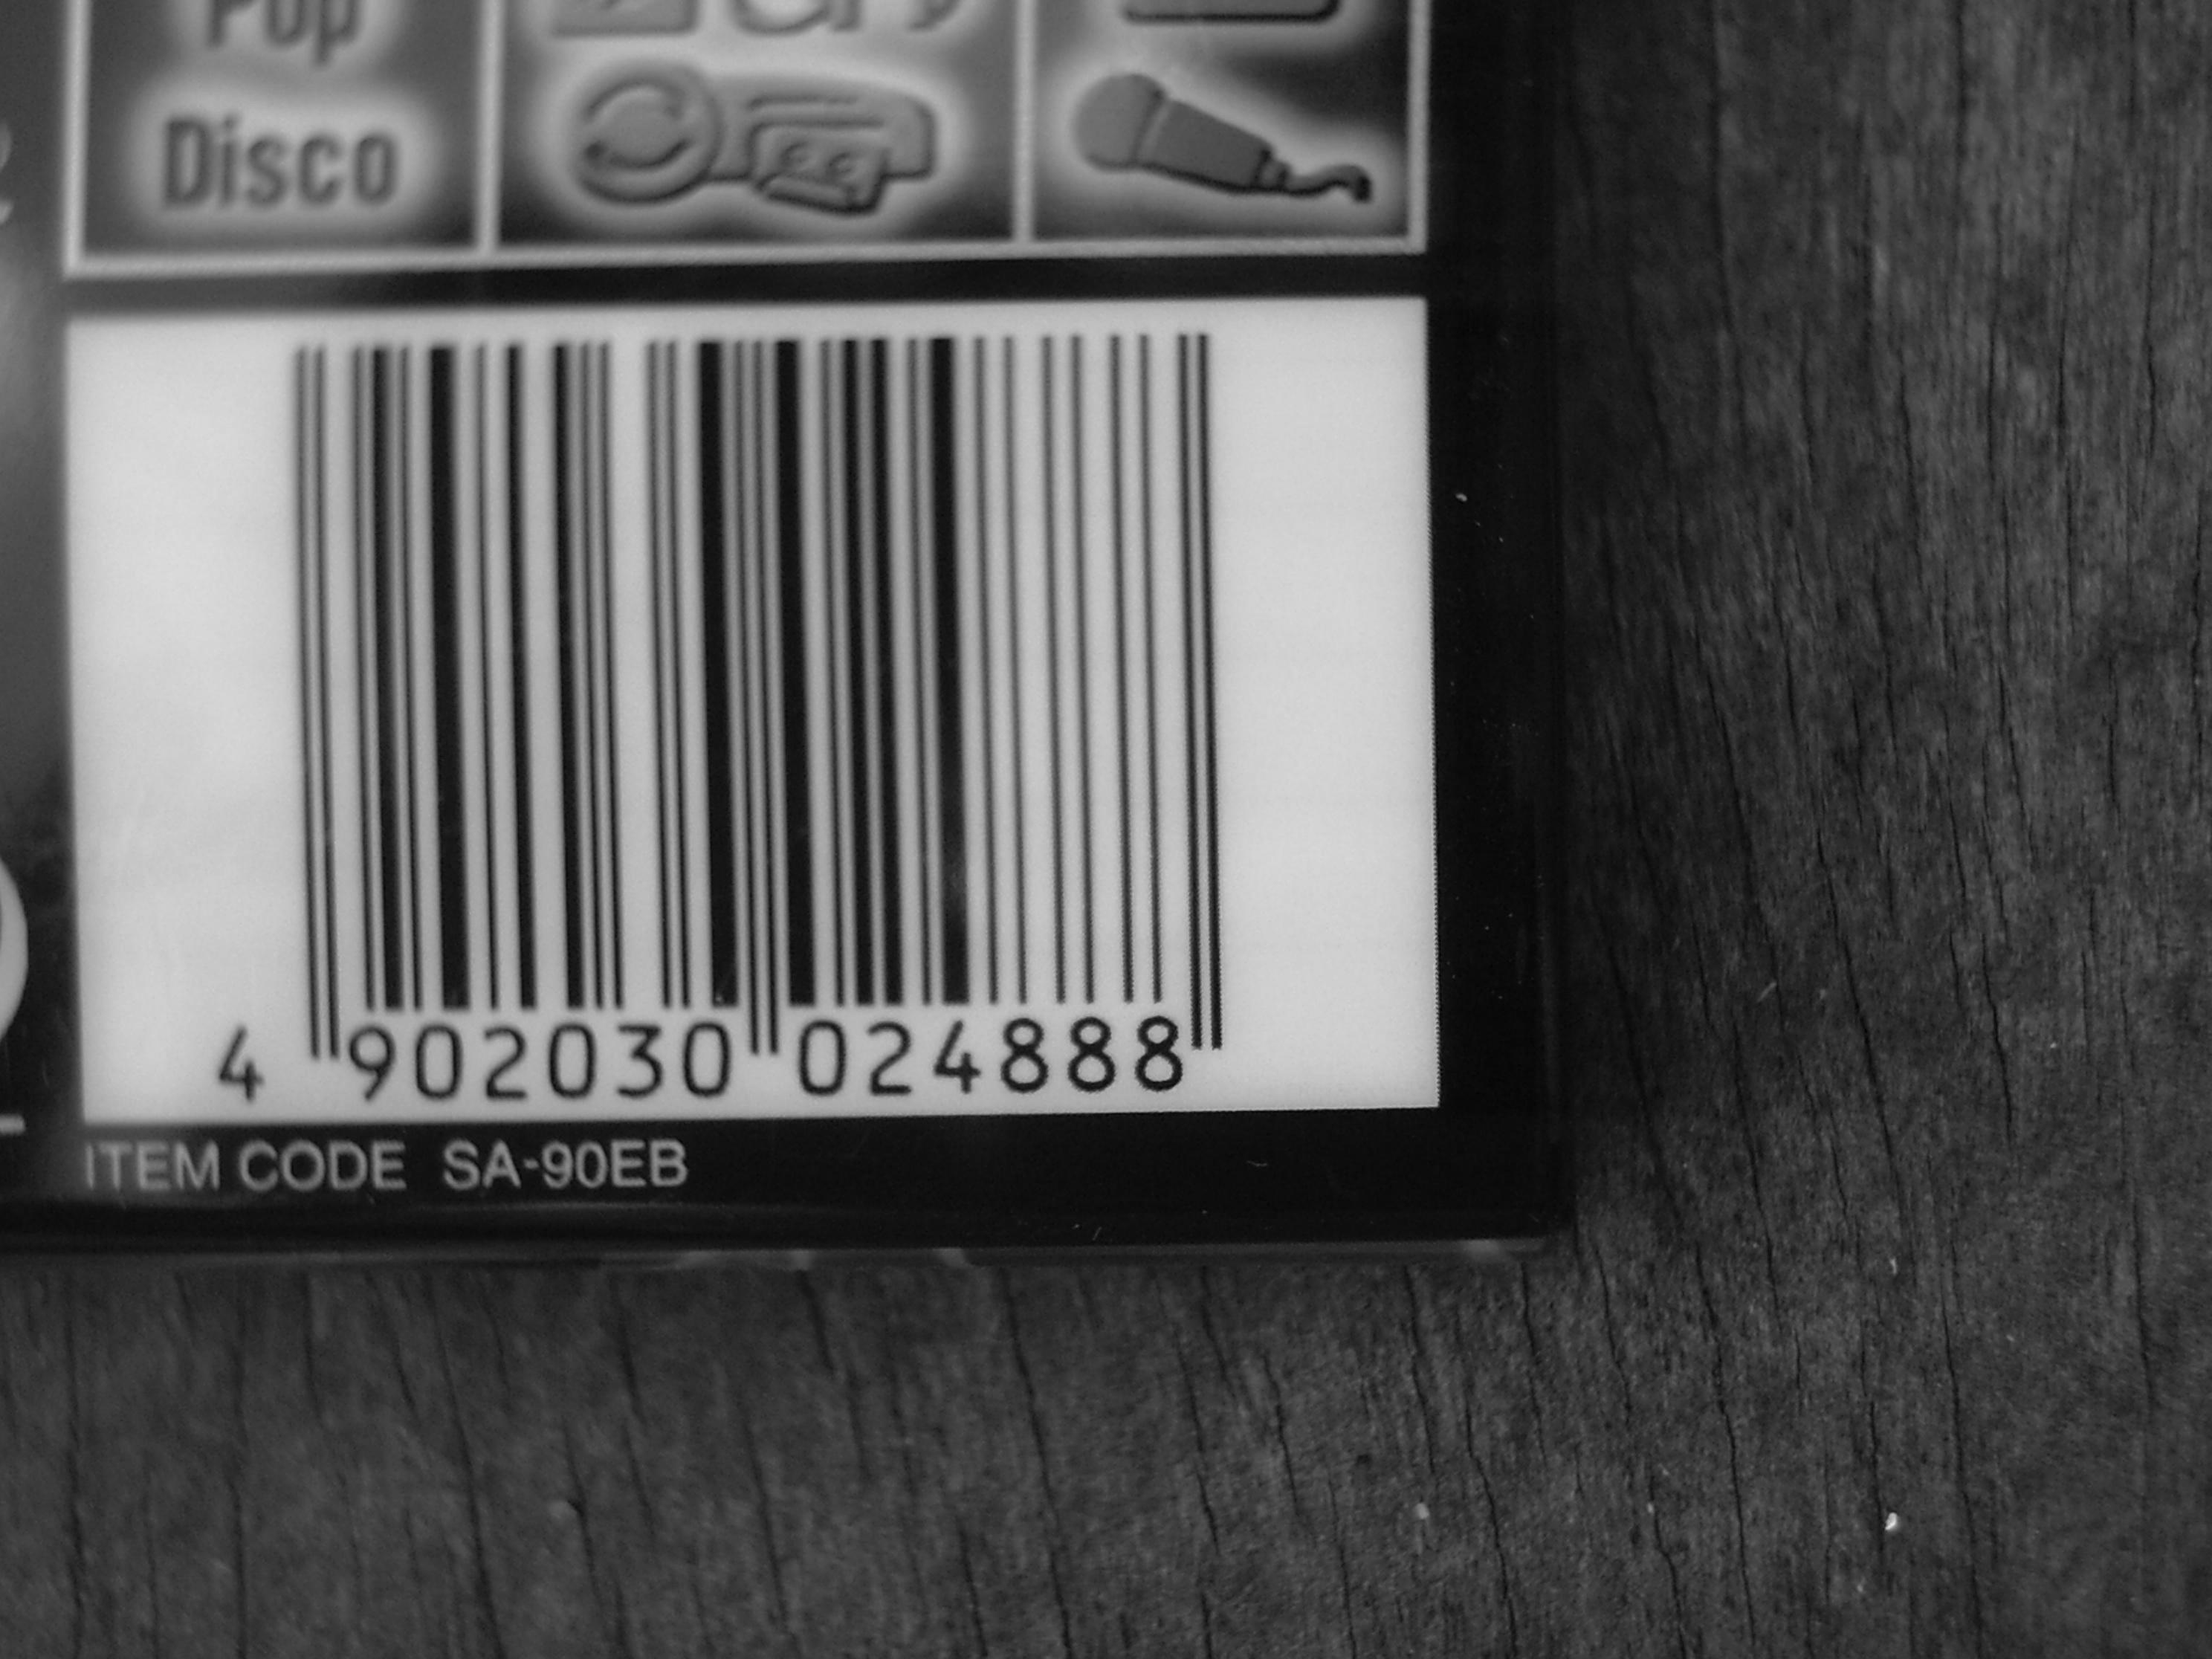Barcode: (261, 331, 1225, 1055)
